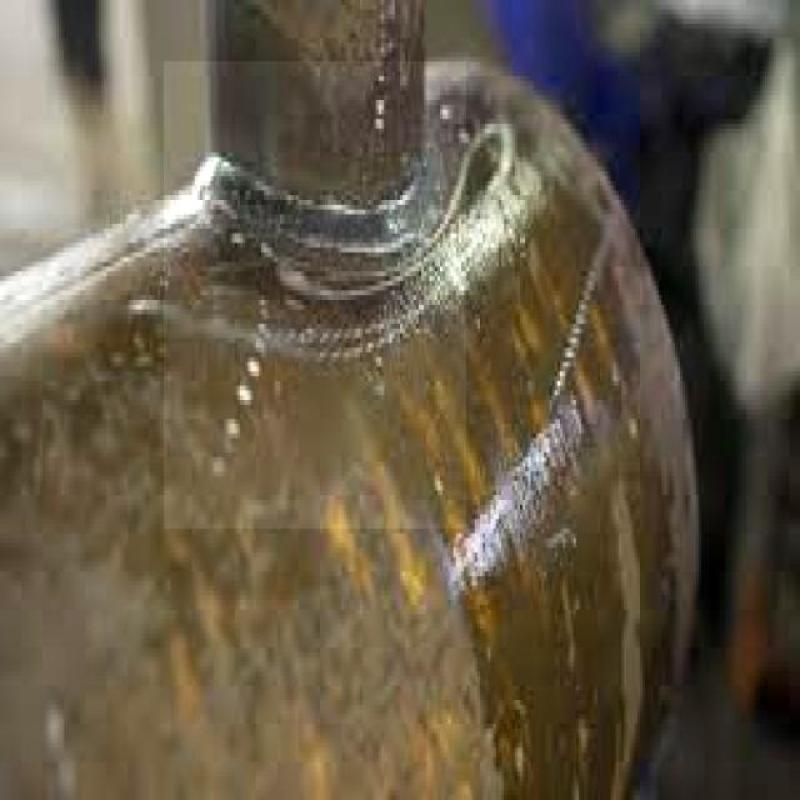Fracture: (173, 73, 452, 435)
